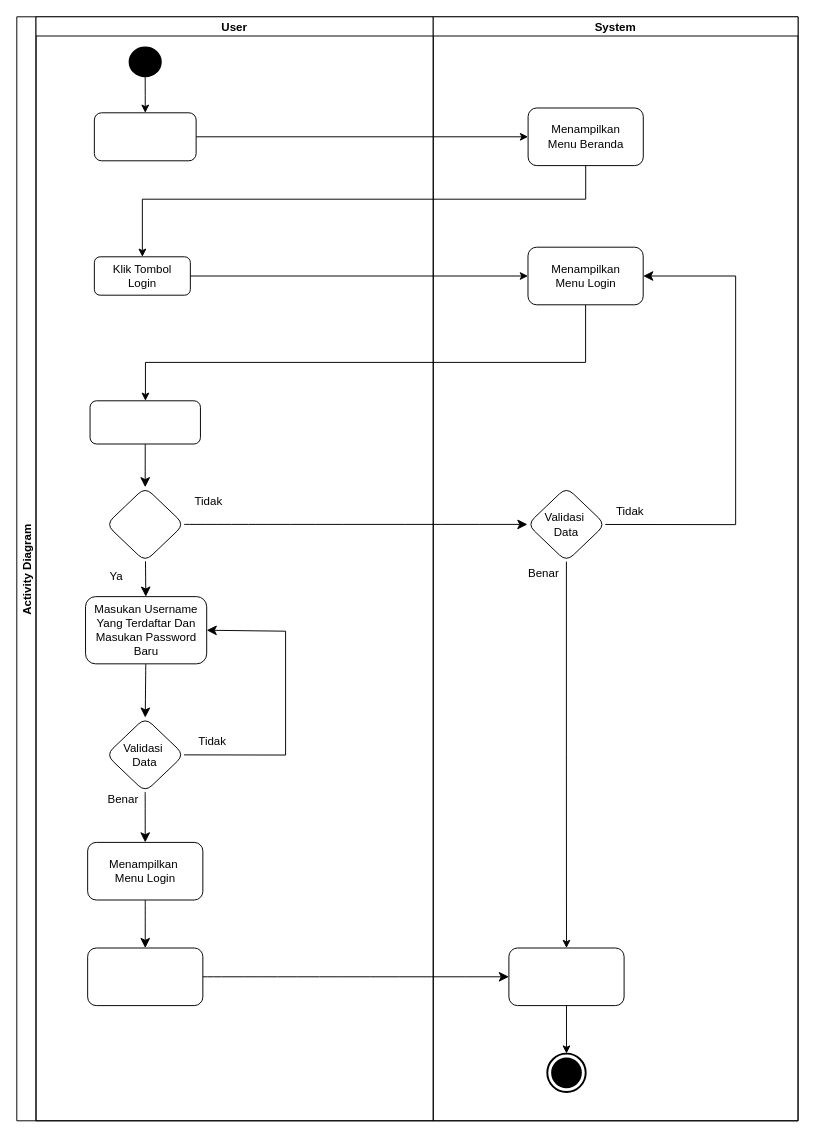
This 815x1138 diagram has some shape labels left out. Each missing label, with the centre of its shape:
lupa Password?: point (144, 524)
Masukan Username Dan Password Baru: point (145, 976)
Masukan Username Password: point (144, 422)
Membuka Website: point (144, 136)
Menampilkan Menu Dashboard: point (566, 976)
